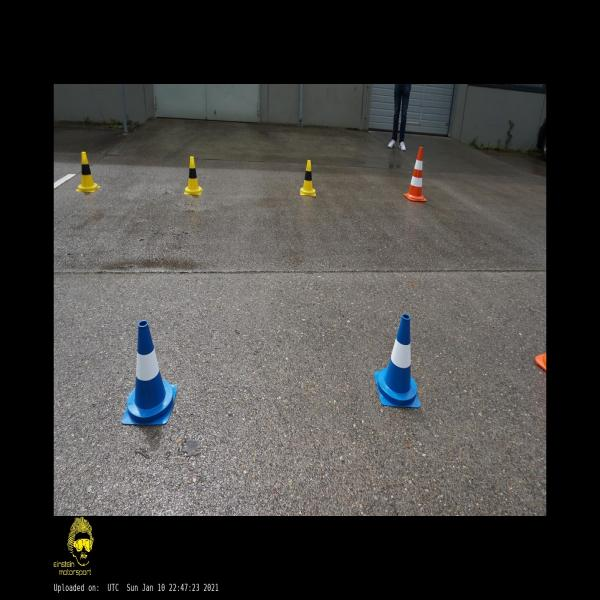blue_cone: (122, 320, 178, 426), (374, 314, 420, 409)
large_orange_cone: (404, 146, 427, 202)
yellow_cone: (76, 152, 100, 193), (184, 156, 202, 195), (300, 160, 316, 197)
